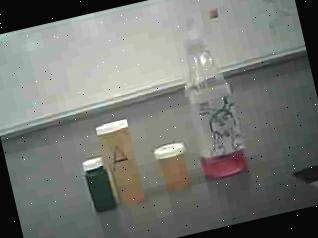Bottle A: (90, 110, 159, 216)
Bottle B: (146, 132, 200, 197)
Bottle C: (76, 148, 124, 215)
hazard: (160, 0, 263, 190)
